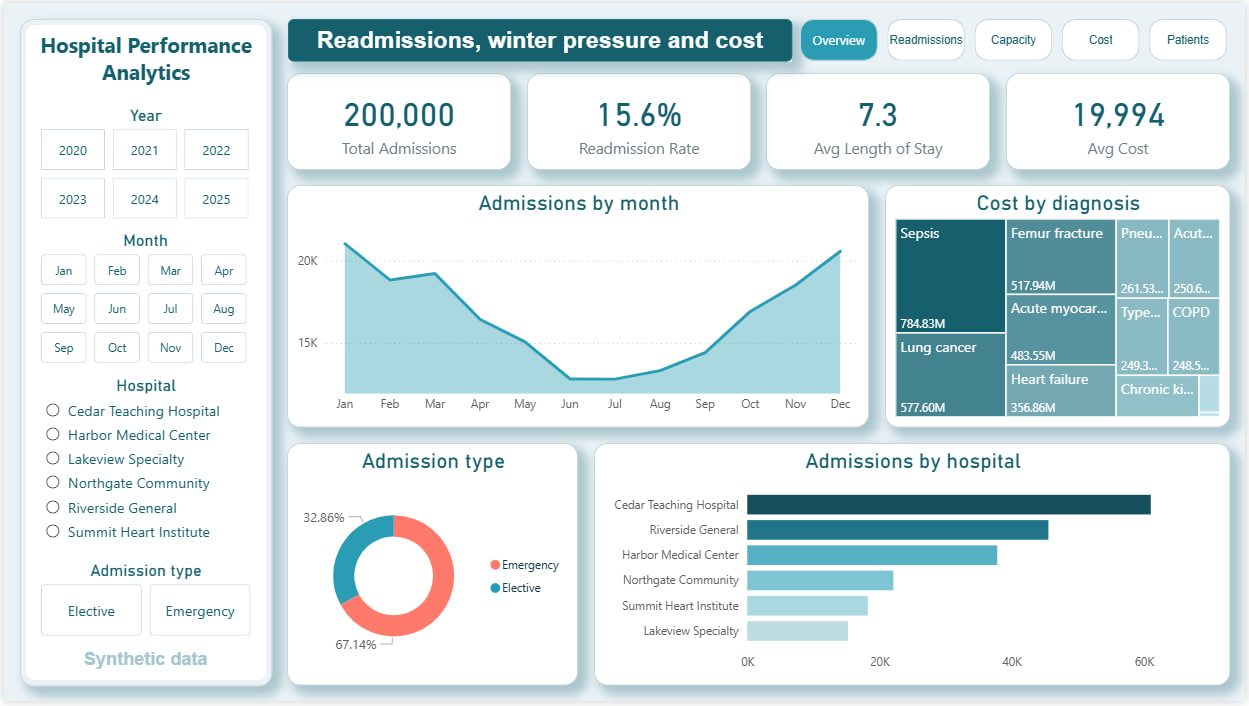

What the dashboard file says about the page in this screenshot:
{"tool":"powerbi","page":{"name":"Overview","canvas":[1280,720],"ordinal":0},"visuals":[{"type":"shape","box":[16,16,260,688],"z":0},{"type":"textbox","box":[16,24,260,80],"z":1000},{"type":"advancedSlicerVisual","fields":{"Values":["Date Table.Year"]},"box":[35.9,104.1,220,120.3],"z":2000},{"type":"card","fields":{"Values":["fact_admissions.Avg Length of Stay"]},"box":[786,72,231,100],"z":3000},{"type":"card","fields":{"Values":["fact_admissions.Total Admissions"]},"box":[292,72,231,100],"z":4000},{"type":"card","fields":{"Values":["fact_admissions.Avg Cost"]},"box":[1033,72,231,100],"z":5000},{"type":"card","fields":{"Values":["fact_admissions.Readmission Rate"]},"box":[539,72,231,100],"z":6000},{"type":"areaChart","title":"Admissions by month","fields":{"Category":["Date Table.Month"],"Y":["fact_admissions.Total Admissions"]},"box":[292,188,600,250],"z":7000},{"type":"treemap","title":"Cost by diagnosis","fields":{"Group":["dim_diagnosis.diagnosis"],"Values":["fact_admissions.Total Cost"]},"box":[908,188,356,250],"z":8000},{"type":"donutChart","title":"Admission type","fields":{"Category":["fact_admissions.admission_type"],"Y":["fact_admissions.Total Admissions"]},"box":[292,454,300,250],"z":9000},{"type":"clusteredBarChart","title":"Admissions by hospital","fields":{"Category":["dim_hospital.hospital_name"],"Y":["fact_admissions.Total Admissions"]},"box":[608,454,656,250],"z":10000},{"type":"shape","box":[292.7,16.2,520,44],"z":11000},{"type":"shape","box":[36.8,661.6,218.2,30.5],"z":12000},{"type":"advancedSlicerVisual","fields":{"Values":["Date Table.Month"]},"box":[35.9,232.5,220,140],"z":13000},{"type":"listSlicer","title":"Hospital","fields":{"Values":["dim_hospital.hospital_name"]},"box":[35.9,383.3,220.8,231.6],"z":14000},{"type":"advancedSlicerVisual","title":"Admission type","fields":{"Values":["fact_admissions.admission_type"]},"box":[35.9,573.7,220.8,81.7],"z":15000},{"type":"pageNavigator","box":[820.5,16.2,443.5,44],"z":16000}]}

Visuals, with their boxes in screenshot pixels (x1, y1, x2, y2), scaled from the page's 1280x720 canvas onto the 1249x706 screenshot:
shape: <bbox>16, 16, 269, 690</bbox>
textbox: <bbox>16, 24, 269, 102</bbox>
advancedSlicerVisual - Date Table.Year: <bbox>35, 102, 250, 220</bbox>
card - fact_admissions.Avg Length of Stay: <bbox>767, 71, 992, 169</bbox>
card - fact_admissions.Total Admissions: <bbox>285, 71, 510, 169</bbox>
card - fact_admissions.Avg Cost: <bbox>1008, 71, 1233, 169</bbox>
card - fact_admissions.Readmission Rate: <bbox>526, 71, 751, 169</bbox>
"Admissions by month" areaChart: <bbox>285, 184, 870, 429</bbox>
"Cost by diagnosis" treemap: <bbox>886, 184, 1233, 429</bbox>
"Admission type" donutChart: <bbox>285, 445, 578, 690</bbox>
"Admissions by hospital" clusteredBarChart: <bbox>593, 445, 1233, 690</bbox>
shape: <bbox>286, 16, 793, 59</bbox>
shape: <bbox>36, 649, 249, 679</bbox>
advancedSlicerVisual - Date Table.Month: <bbox>35, 228, 250, 365</bbox>
"Hospital" listSlicer: <bbox>35, 376, 250, 603</bbox>
"Admission type" advancedSlicerVisual: <bbox>35, 563, 250, 643</bbox>
pageNavigator: <bbox>801, 16, 1233, 59</bbox>
